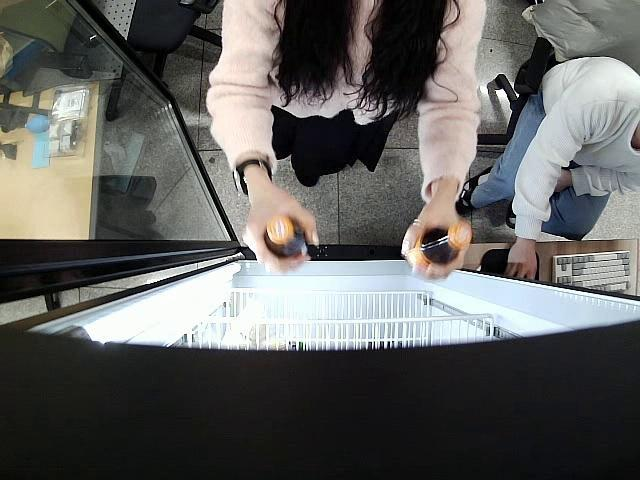17_vita500: (403, 223, 472, 269), (264, 216, 310, 262)
